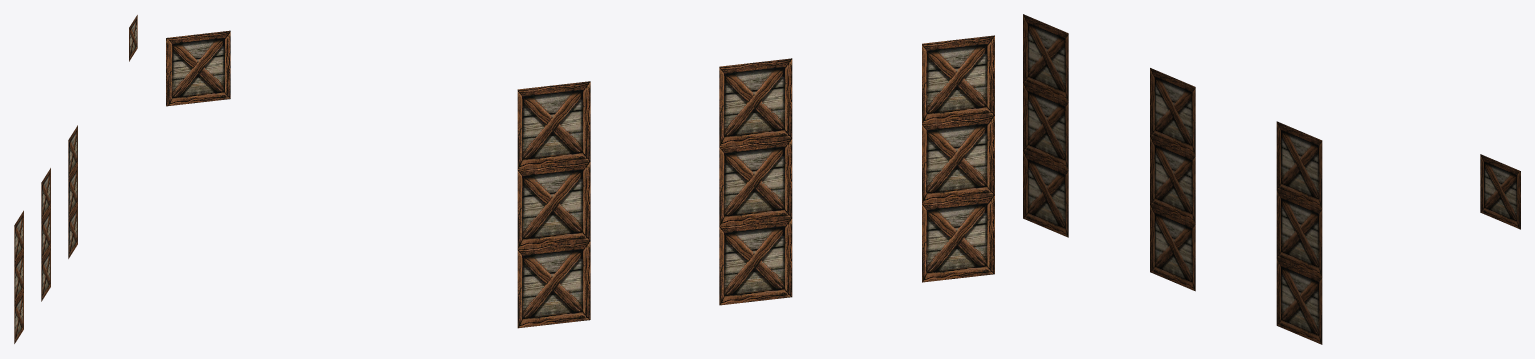
The model's file is LAKETOWN_EXTERIOR_PS_LT_PANELS2678.fbx.
3 views of the same model, side by side, from view 1: azimuth 30°, elevation 25°; view 2: azimuth 150°, elevation 25°; view 3: azimuth 270°, elevation 25° (orthographic). The views are drawn at different scales.
Visible parts, largest first — view 1: LAKETOWN_EXTERIOR_PS_LT_PANELS2678; view 2: LAKETOWN_EXTERIOR_PS_LT_PANELS2678; view 3: LAKETOWN_EXTERIOR_PS_LT_PANELS2678.
Boxes of the visible parts, <box> form: LAKETOWN_EXTERIOR_PS_LT_PANELS2678: <box>14,15,137,343</box>; LAKETOWN_EXTERIOR_PS_LT_PANELS2678: <box>166,30,994,328</box>; LAKETOWN_EXTERIOR_PS_LT_PANELS2678: <box>1023,14,1520,344</box>.
Bounding box in the file's own units: 84202 × 47539 × 78811.
Materials: 1 (1 with a texture image).
